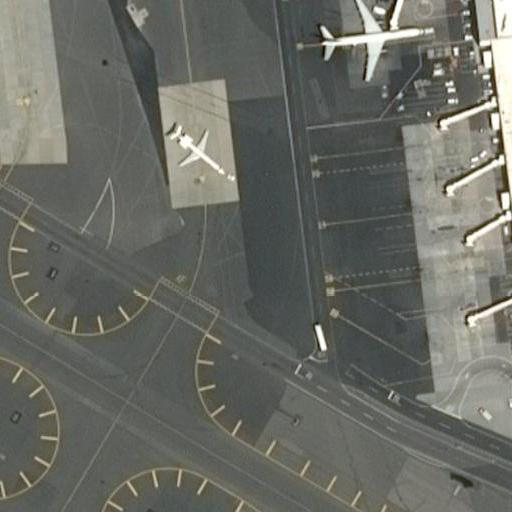Aircraft: (313, 0, 427, 83), (159, 113, 233, 184)
